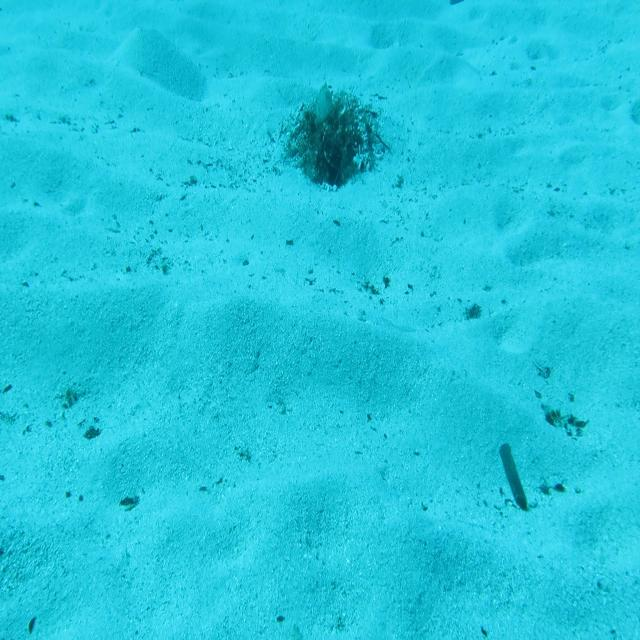INS: (308, 77, 340, 137)
nest: (278, 90, 392, 194)
vegetation: (496, 432, 530, 516), (543, 399, 592, 444), (459, 295, 487, 327)
